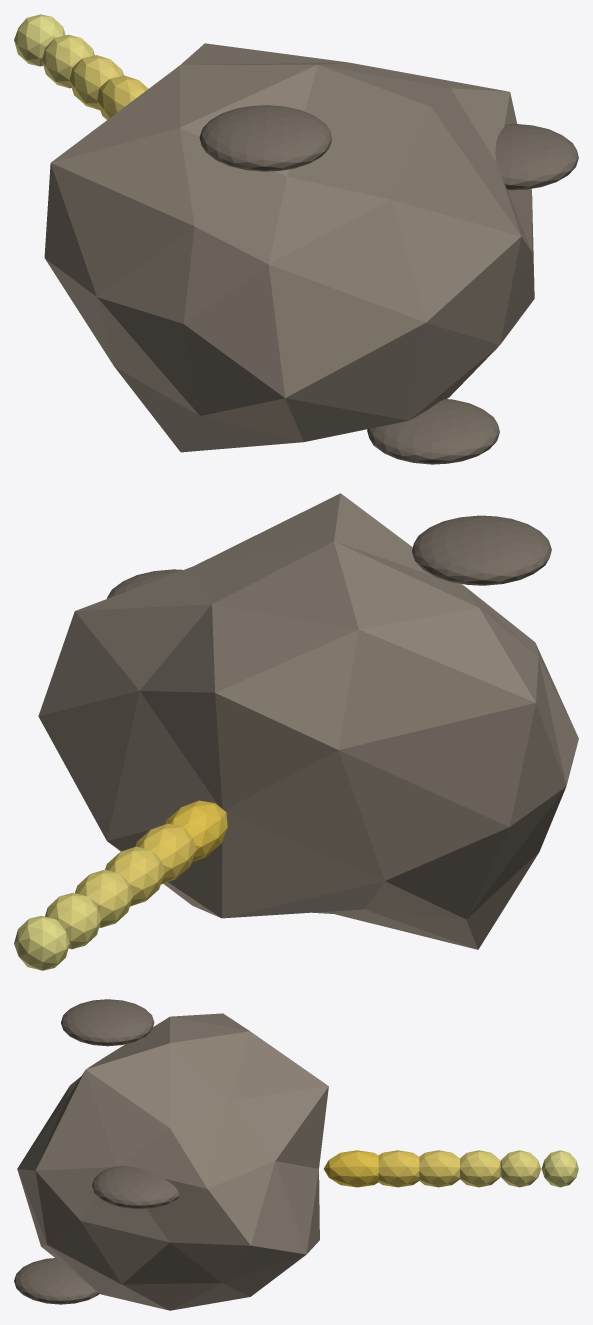
File: meteor.glb
3 renders of one model, top to bottom at view 1: azimuth 30°, elevation 25°; view 2: azimuth 150°, elevation 25°; view 3: azimuth 270°, elevation 25°, orthographic. The views are drawn at different scales.
Parts seen in each view (by area): view 1: meteor_part_0, meteor_part_3, meteor_part_4, meteor_part_2, meteor_part_8, meteor_part_9, meteor_part_10, meteor_part_7; view 2: meteor_part_0, meteor_part_3, meteor_part_10, meteor_part_5, meteor_part_6, meteor_part_7, meteor_part_8, meteor_part_9, meteor_part_2; view 3: meteor_part_0, meteor_part_3, meteor_part_2, meteor_part_4, meteor_part_5, meteor_part_6, meteor_part_7, meteor_part_8, meteor_part_9, meteor_part_10.
Boxes of the visible parts, x1,y1,x2,y2 form: meteor_part_0: (44,43,534,452); meteor_part_3: (199,105,332,171); meteor_part_4: (367,399,499,464); meteor_part_2: (495,123,578,190); meteor_part_8: (69,55,123,110); meteor_part_9: (41,34,94,88); meteor_part_10: (14,14,65,66); meteor_part_7: (97,75,148,119); meteor_part_0: (38,493,578,949); meteor_part_3: (412,515,551,585); meteor_part_10: (14,916,69,970); meteor_part_5: (165,800,227,862); meteor_part_6: (135,823,196,884); meteor_part_7: (105,846,164,906); meteor_part_8: (75,869,132,927); meteor_part_9: (45,892,101,949); meteor_part_2: (107,569,182,598); meteor_part_0: (17,1013,328,1310); meteor_part_3: (61,999,154,1046); meteor_part_2: (92,1166,179,1209); meteor_part_4: (14,1258,99,1304); meteor_part_5: (324,1150,378,1187); meteor_part_6: (378,1150,419,1187); meteor_part_7: (419,1150,459,1187); meteor_part_8: (460,1150,500,1187); meteor_part_9: (500,1150,541,1187); meteor_part_10: (541,1150,578,1187).
Size of the model in its own units: 2.4 by 1.77 by 3.62.
